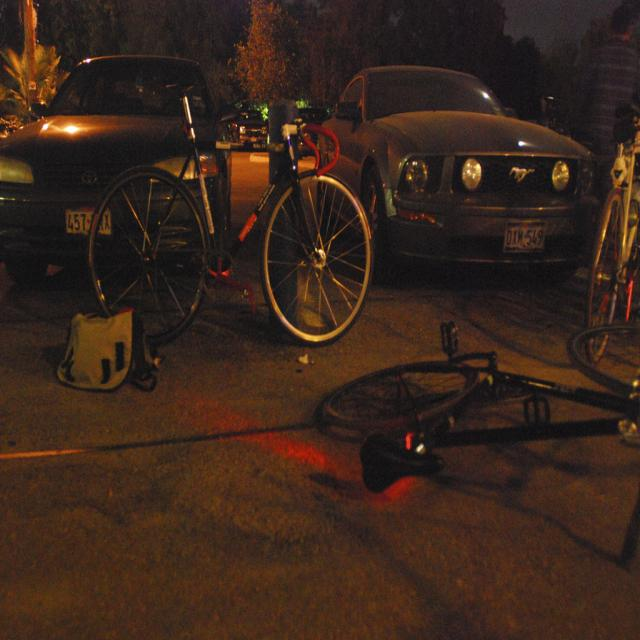Bicycle: (88, 106, 366, 387), (352, 333, 640, 533), (570, 108, 640, 332)
car: (0, 26, 235, 310), (339, 61, 587, 303)
